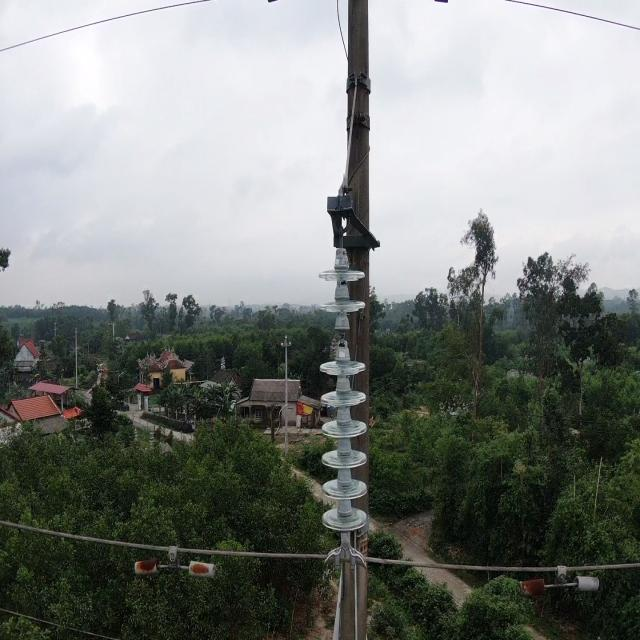正常绝缘子: (314, 252, 374, 538)
绝缘子破损: (333, 322, 351, 353)
